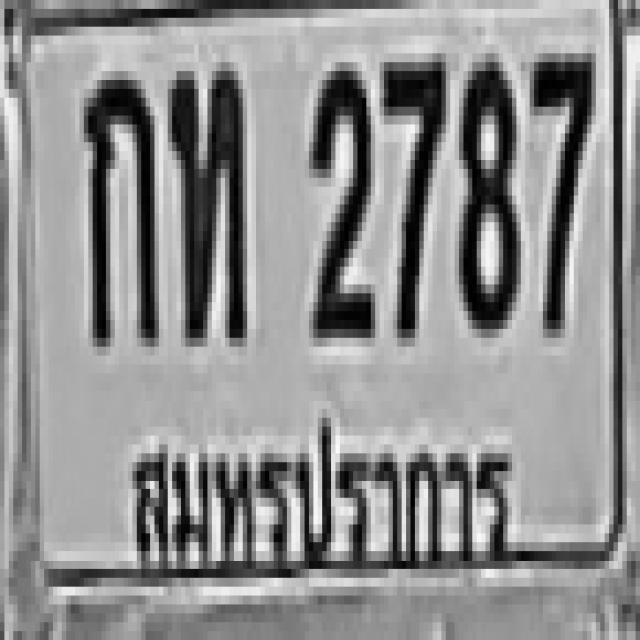10GorGai: (80, 67, 154, 342)
2: (304, 58, 370, 333)
32ThorThaHan: (168, 62, 242, 338)
7: (530, 44, 592, 329), (379, 53, 442, 329)
8: (454, 53, 516, 329)
SamutPrakan: (116, 394, 526, 608)
